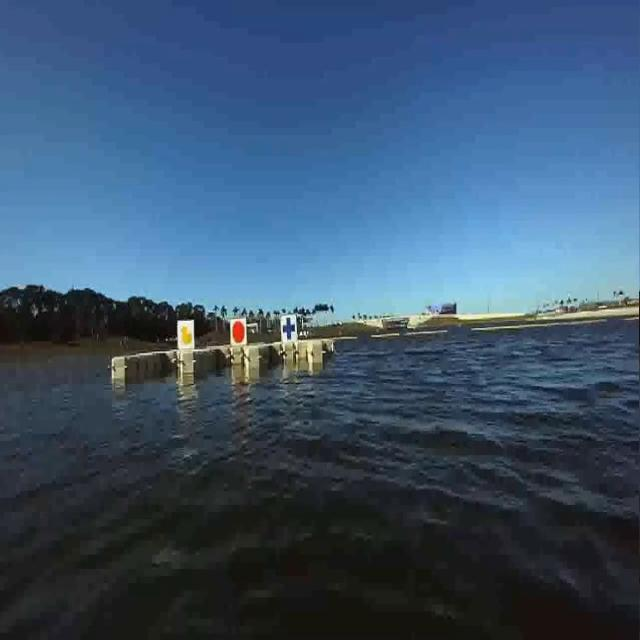blue-cross: (278, 312, 298, 344)
red-dot: (234, 320, 247, 341)
yellow-duck: (178, 322, 194, 346)
